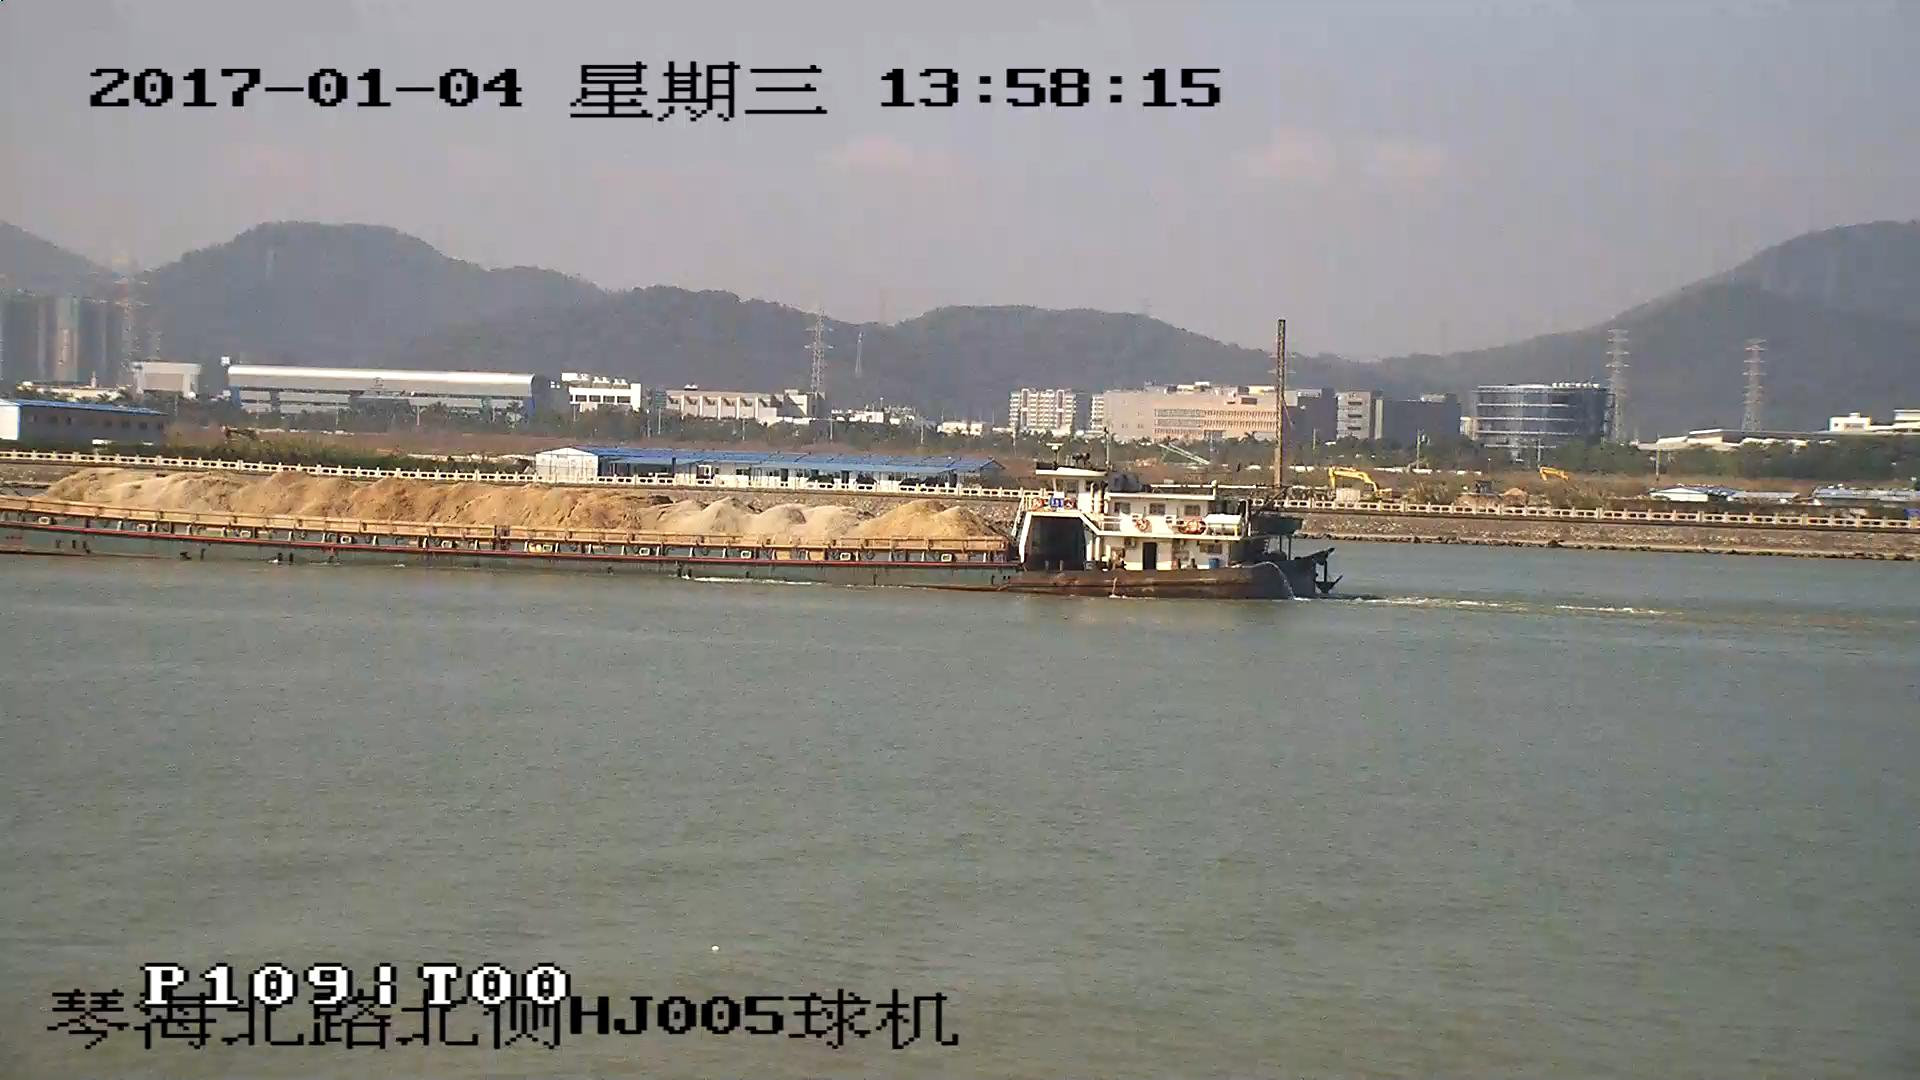ore carrier: (1, 470, 1335, 598)
